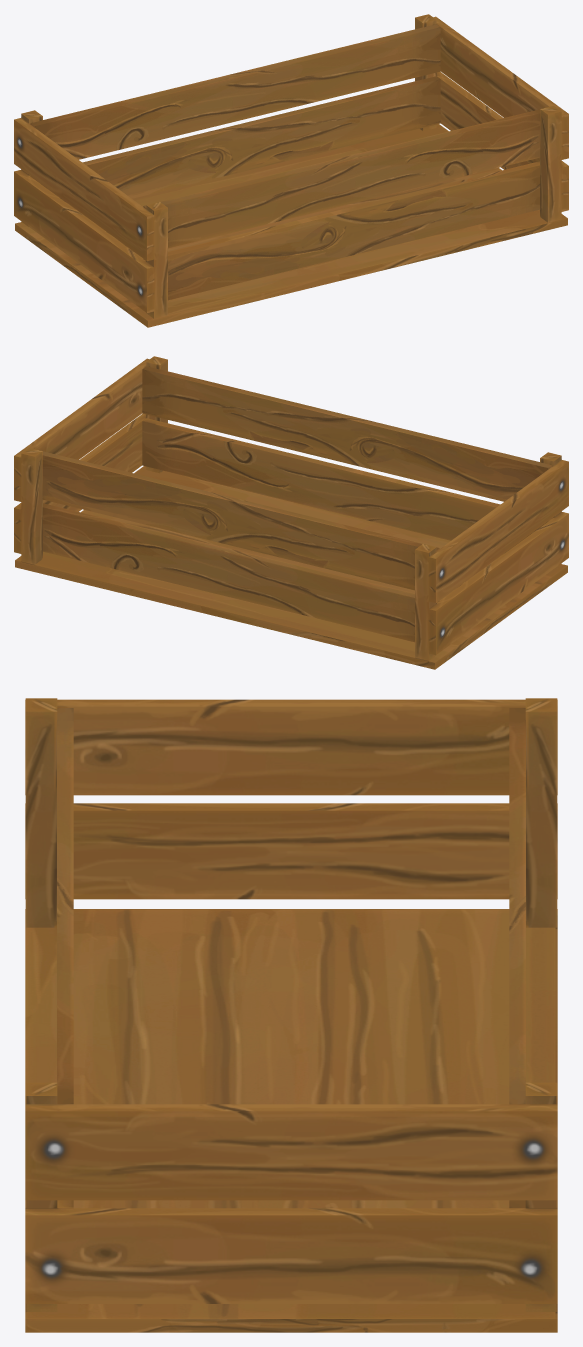
Rendered from box_rectangular2.gltf.
The picture shows the model from 3 angles, top to bottom: view 1: azimuth 30°, elevation 25°; view 2: azimuth 150°, elevation 25°; view 3: azimuth 270°, elevation 25°; orthographic projection. The views are drawn at different scales.
Visible parts, largest first — view 1: fruis_and_vegetables.017; view 2: fruis_and_vegetables.017; view 3: fruis_and_vegetables.017.
Part boxes in pixels (x1=…): fruis_and_vegetables.017: x1=14, y1=14, x2=568, y2=327; fruis_and_vegetables.017: x1=14, y1=356, x2=568, y2=669; fruis_and_vegetables.017: x1=25, y1=698, x2=557, y2=1332.
Bounding box in the file's own units: 1.23 × 0.3204 × 0.6697.
1 material, 1 textured.
